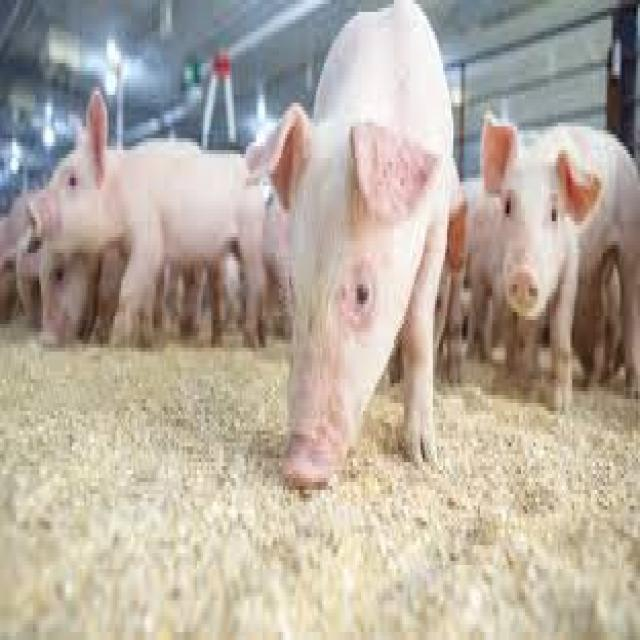Pig: (242, 0, 448, 489), (18, 73, 284, 354), (478, 102, 640, 404)
